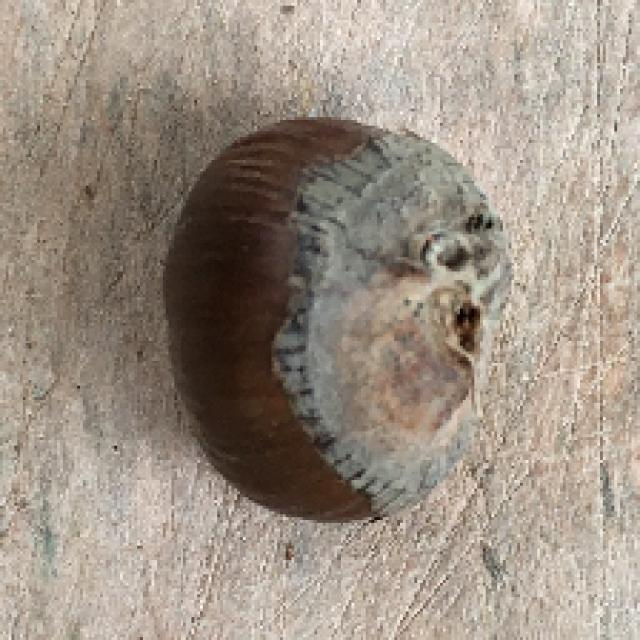damagedHazelnut: (148, 101, 518, 528)
